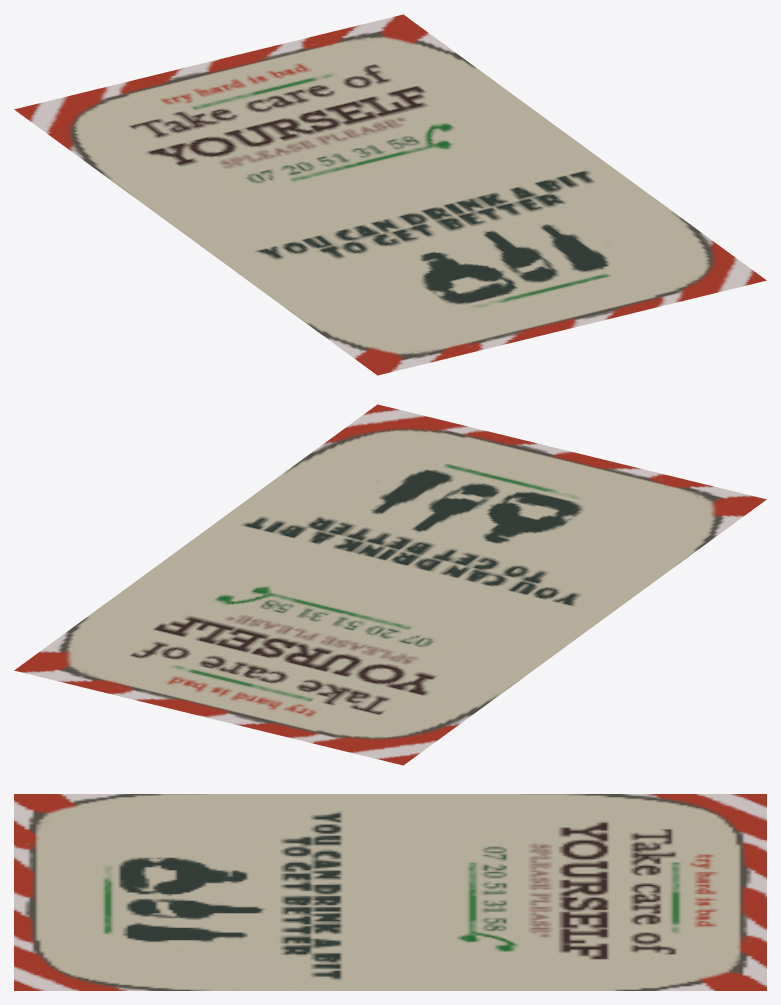
File: Poster05.fbx
3 views of the same model, one above another, from view 1: azimuth 30°, elevation 25°; view 2: azimuth 150°, elevation 25°; view 3: azimuth 270°, elevation 25° (orthographic). The views are drawn at different scales.
Visible parts, largest first — view 1: Poster05; view 2: Poster05; view 3: Poster05.
Part boxes in pixels (left/top/right/bottom): Poster05: left=14, top=14, right=766, bottom=375; Poster05: left=14, top=404, right=766, bottom=765; Poster05: left=14, top=794, right=766, bottom=990.
Size of the model in its own units: 24.19 by 0 by 39.12.
1 material, 1 textured.
